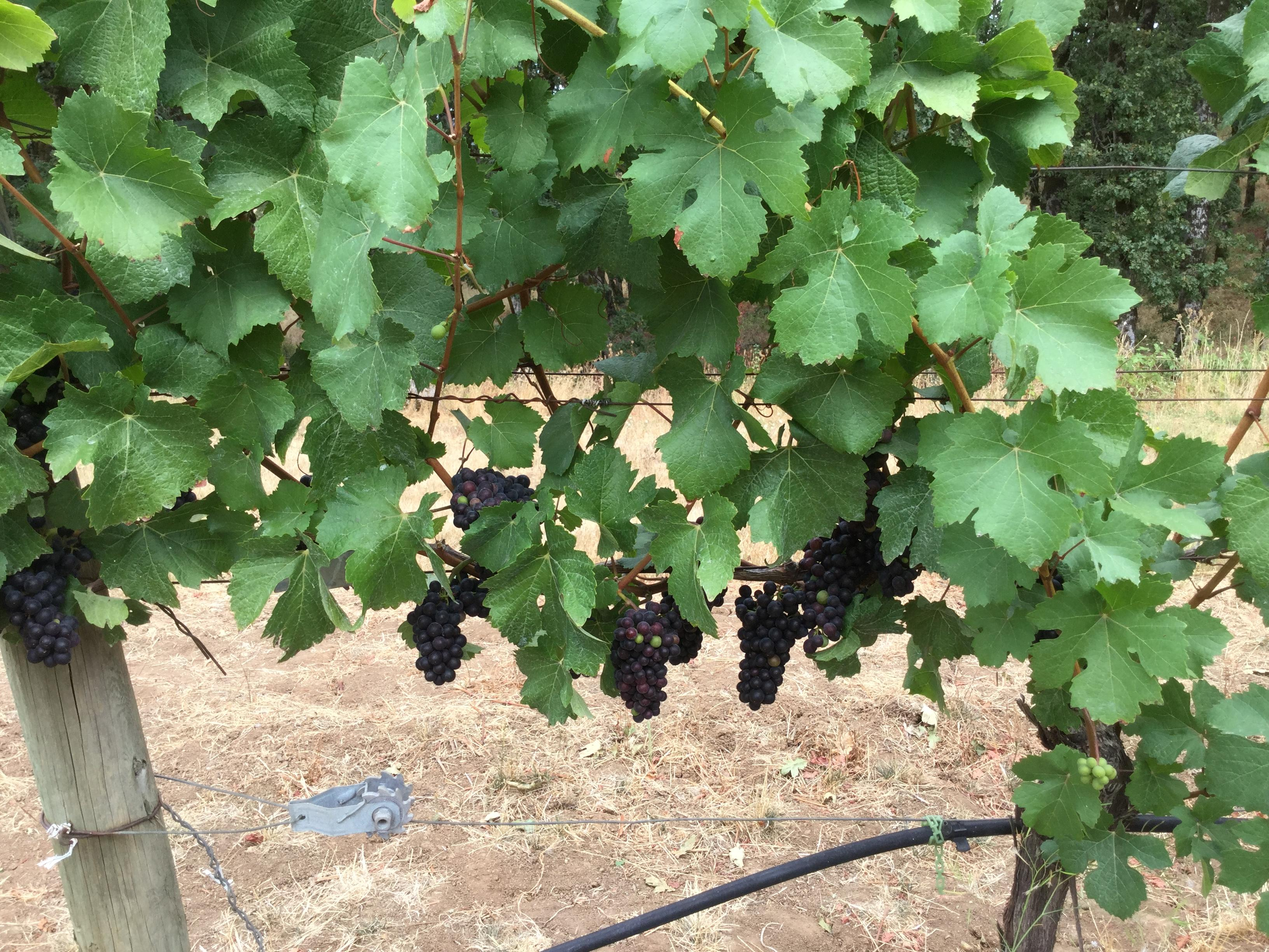leaf: (628, 77, 806, 277), (920, 402, 1110, 565), (753, 190, 916, 363), (49, 92, 215, 257), (45, 374, 210, 528), (321, 44, 453, 227), (1030, 579, 1189, 722), (207, 115, 326, 298), (993, 244, 1141, 391), (159, 0, 314, 128), (484, 523, 606, 674), (319, 466, 438, 609), (169, 219, 290, 356), (723, 443, 865, 558), (752, 348, 905, 453), (227, 537, 354, 659), (548, 37, 664, 169), (90, 499, 231, 606), (639, 493, 740, 634), (631, 239, 738, 368), (47, 0, 170, 112), (552, 170, 659, 296), (655, 357, 750, 498), (1110, 420, 1224, 536), (746, 0, 870, 105), (309, 182, 386, 338), (311, 315, 417, 428), (465, 170, 563, 289), (291, 0, 408, 99), (0, 291, 112, 385), (1057, 829, 1172, 919), (566, 444, 655, 557), (866, 33, 980, 120), (84, 225, 202, 304), (371, 254, 454, 366), (914, 247, 1010, 343), (1012, 744, 1102, 839), (938, 521, 1036, 606), (198, 366, 294, 452), (302, 402, 384, 500), (903, 595, 974, 707), (518, 283, 608, 370), (906, 136, 982, 239), (1125, 679, 1206, 770), (617, 0, 716, 74), (61, 288, 134, 387), (136, 322, 229, 399), (875, 465, 940, 570), (843, 129, 919, 218), (482, 77, 551, 171), (461, 0, 541, 81), (1056, 387, 1136, 467), (1065, 505, 1145, 583), (1186, 14, 1248, 114), (446, 307, 523, 386), (516, 644, 590, 725), (466, 399, 545, 469), (462, 501, 542, 570), (965, 591, 1037, 666), (1204, 732, 1268, 811), (1222, 475, 1268, 583), (976, 185, 1038, 257), (0, 423, 47, 513), (207, 440, 265, 511), (0, 68, 56, 141), (538, 403, 593, 475), (0, 0, 56, 70), (1000, 0, 1084, 46), (1218, 818, 1268, 892), (1126, 755, 1188, 814), (0, 508, 50, 576), (1207, 684, 1268, 736), (259, 480, 312, 537), (462, 151, 490, 246), (422, 175, 457, 249), (891, 0, 960, 32), (1233, 566, 1268, 624), (454, 0, 465, 27), (1168, 161, 1188, 167), (130, 369, 140, 380), (435, 0, 448, 6), (89, 493, 91, 515), (445, 49, 448, 61), (950, 0, 955, 7), (540, 18, 545, 24), (428, 35, 435, 39), (1213, 447, 1218, 452), (418, 382, 423, 386), (420, 157, 425, 161), (451, 355, 453, 364), (649, 526, 654, 529), (1262, 74, 1265, 79), (1174, 438, 1179, 441), (445, 56, 448, 60), (198, 139, 202, 142), (952, 236, 958, 238), (961, 232, 967, 234), (3, 172, 8, 174), (9, 138, 11, 143), (1261, 41, 1263, 46), (737, 23, 742, 25), (635, 307, 638, 309), (1230, 844, 1232, 847), (945, 242, 947, 245), (433, 6, 435, 9), (14, 173, 19, 174), (923, 445, 924, 450), (93, 231, 94, 236), (556, 195, 558, 197), (490, 143, 492, 145), (1264, 60, 1268, 61), (416, 377, 418, 379), (902, 242, 906, 243), (455, 30, 457, 32), (1265, 50, 1268, 51), (5, 172, 8, 173), (945, 0, 948, 1), (948, 239, 951, 240), (1044, 721, 1047, 722), (482, 562, 484, 563), (568, 86, 570, 87), (834, 159, 835, 161), (1176, 196, 1178, 197), (921, 0, 923, 1), (1094, 896, 1095, 897), (901, 0, 902, 1), (1120, 917, 1124, 917), (596, 639, 596, 640), (738, 563, 738, 563), (654, 556, 654, 557), (641, 520, 641, 520), (416, 371, 421, 371), (409, 242, 416, 242), (640, 312, 644, 312), (14, 173, 16, 173), (1194, 441, 1197, 441), (421, 30, 421, 31)
